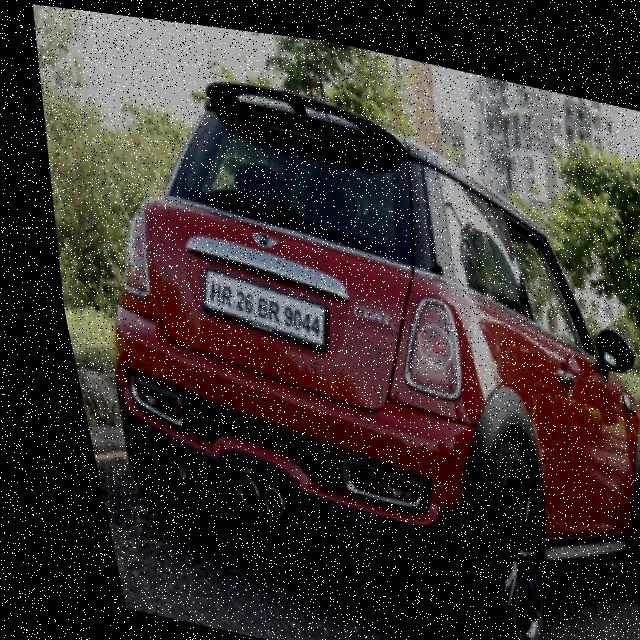license_plate: (183, 257, 324, 354)
